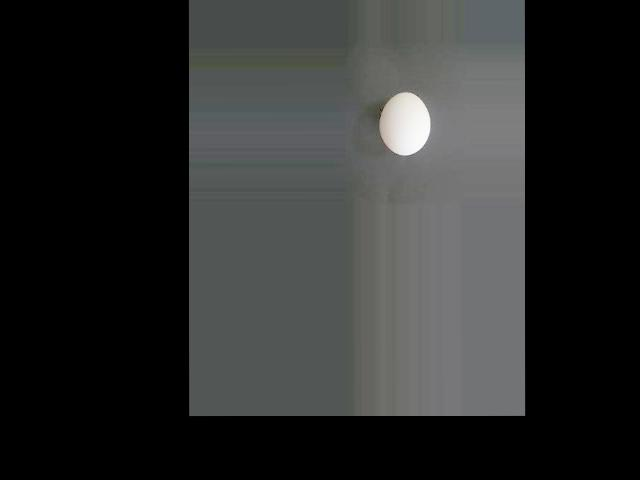egg: (379, 91, 430, 153)
